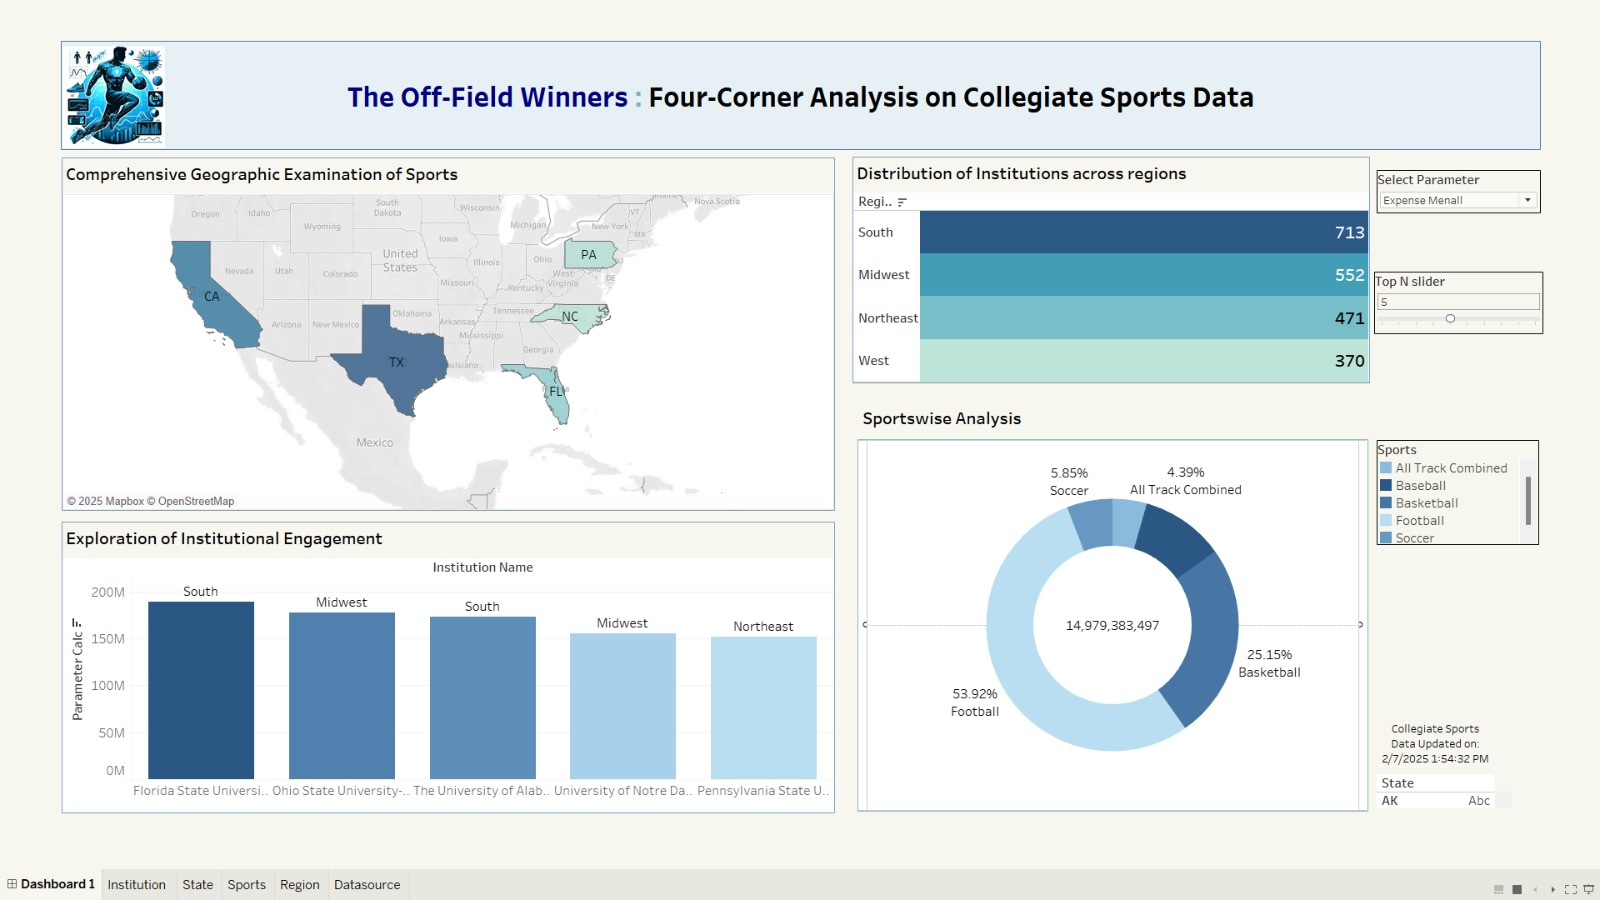

This screenshot's page, from the dashboard's own definition file:
{"tool":"tableau","page":{"name":"Dashboard 1","canvas":[1804,906],"ordinal":0},"visuals":[{"type":"image","box":[8,8,894,890]},{"type":"image","box":[902,8,894,890]},{"type":"worksheet","title":"Region","mark":"Square","rows":["Calculation_1682938896845156353"],"box":[965,120.3,620.6,272]},{"type":"worksheet","title":"State","mark":"Multipolygon","box":[16,121,928,424]},{"type":"parameter","param":"[Parameters].[Parameter 8]","box":[1594,136,197,52]},{"type":"parameter","param":"[Parameters].[Parameter 3]","box":[1591,258,203,75]},{"type":"text","box":[974,395,517,76]},{"type":"worksheet","title":"Sports","mark":"Pie","rows":["Calculation_1682938896824360960","Calculation_1682938896824360960"],"box":[971,459,613,447]},{"type":"legend","title":"Sports","param":"[federated.00m2ojh1m3imct1ft3esm0quu7pe].[none:Sports:nk]","box":[1594,460,195,126]},{"type":"worksheet","title":"Institution","mark":"Automatic","rows":["Calculation_1682938896951422986"],"cols":["institution_name"],"box":[16,558,928,350]},{"type":"worksheet","title":"Datasource","mark":"Automatic","rows":["State"],"box":[1594,793,166,109]}]}

Visuals, with their boxes on the page's 1804x906 design canvas (x1, y1, x2, y2). These are canvas units, not pixel positions in the 1600x900 screenshot, which may show the page scaled, cropped or inside an application window:
image: [x1=8, y1=8, x2=902, y2=898]
image: [x1=902, y1=8, x2=1796, y2=898]
"Region" worksheet (Square marks): [x1=965, y1=120, x2=1586, y2=392]
"State" worksheet (Multipolygon marks): [x1=16, y1=121, x2=944, y2=545]
parameter: [x1=1594, y1=136, x2=1791, y2=188]
parameter: [x1=1591, y1=258, x2=1794, y2=333]
text: [x1=974, y1=395, x2=1491, y2=471]
"Sports" worksheet (Pie marks): [x1=971, y1=459, x2=1584, y2=906]
"Sports" legend: [x1=1594, y1=460, x2=1789, y2=586]
"Institution" worksheet: [x1=16, y1=558, x2=944, y2=908]
"Datasource" worksheet: [x1=1594, y1=793, x2=1760, y2=902]
